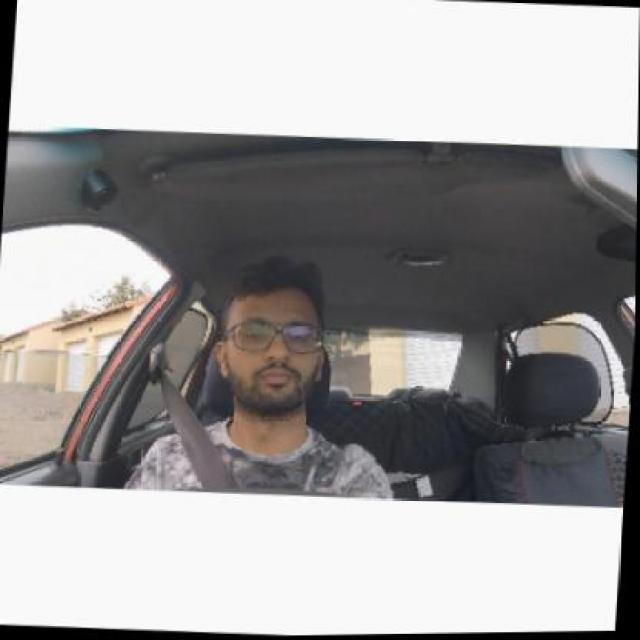drowsy: (217, 257, 332, 420)
